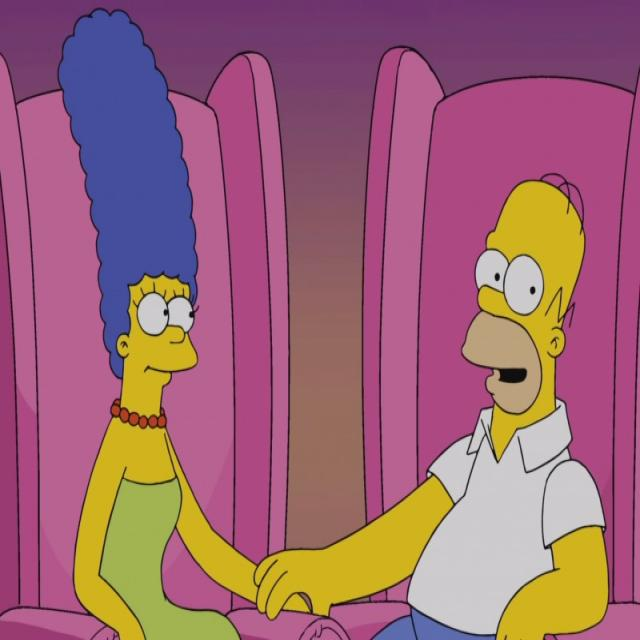Homer Simpson: (458, 168, 590, 459)
Marge Simpson: (55, 1, 202, 434)
